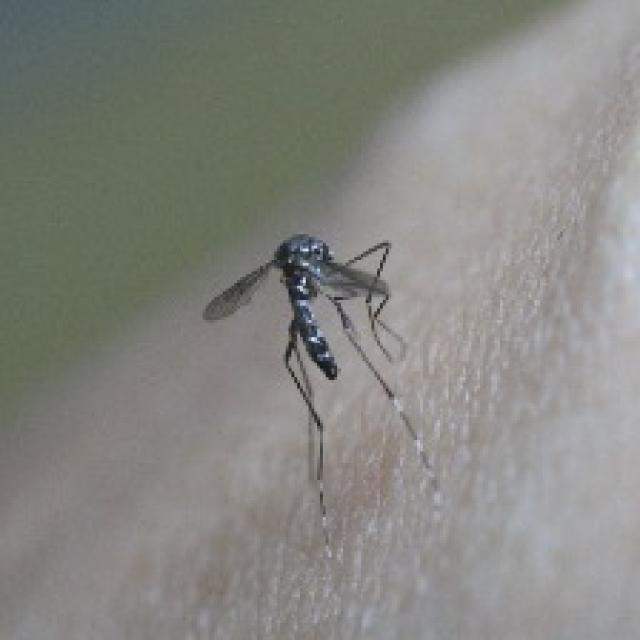aedes: (200, 226, 443, 531)
